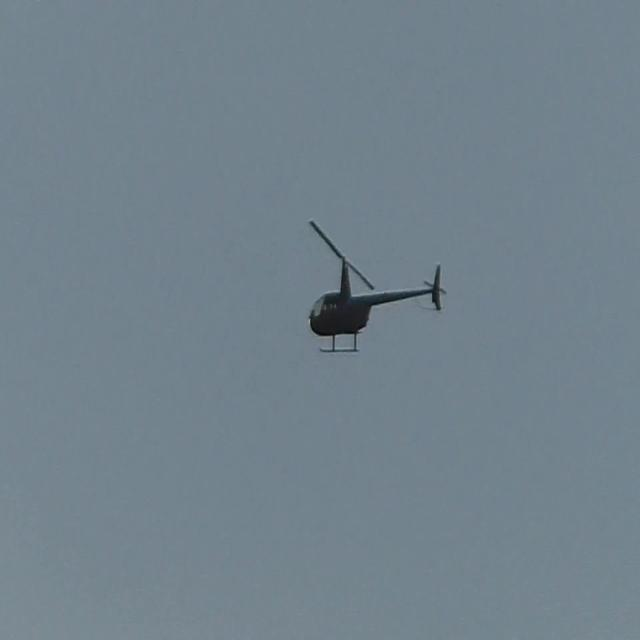CIV_HELO: (306, 253, 446, 356)
